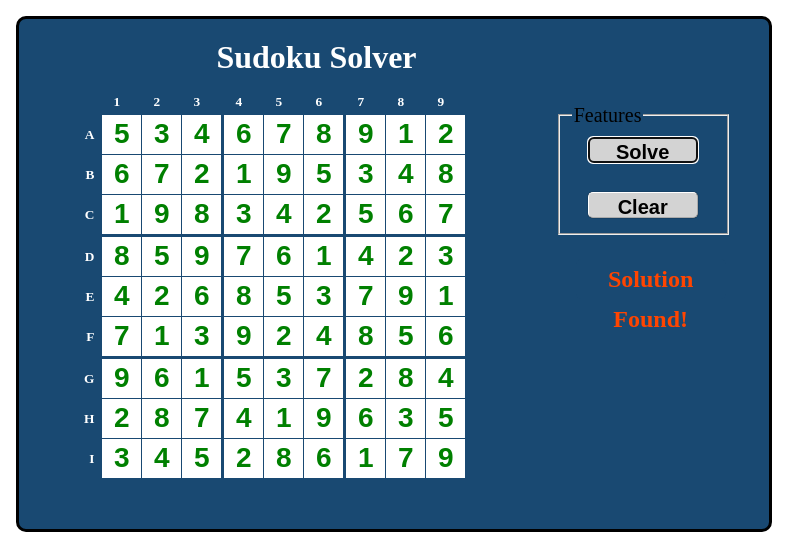
Scenario: Sudoku Solver app › shows a message when no solution exists
Click the button "Clear".
click(643, 205)  # box [588,192,698,218]
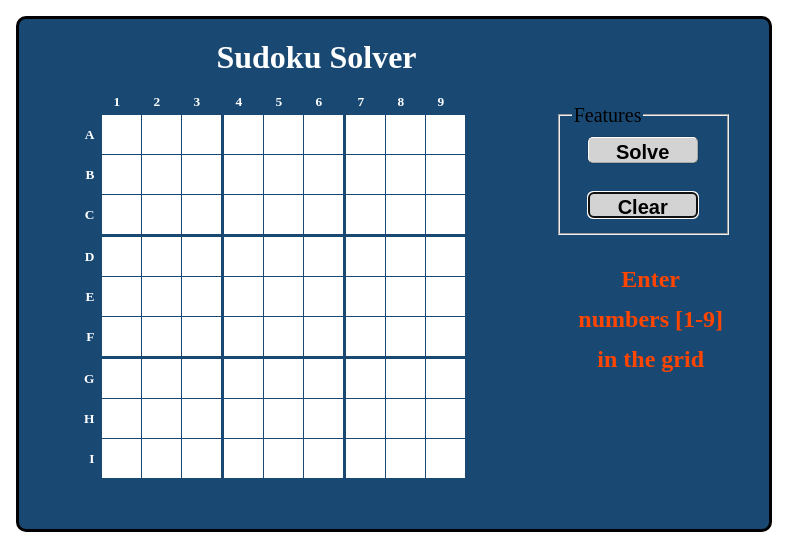
Click the button "Solve".
click(643, 150)  # box [588,137,698,163]
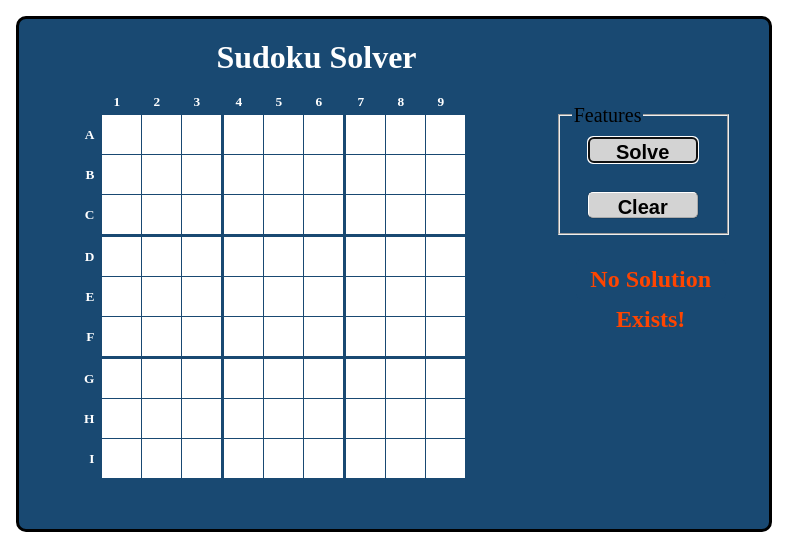
Expected: the button "No Solution Exists!" is shown, [576,259,726,299]
